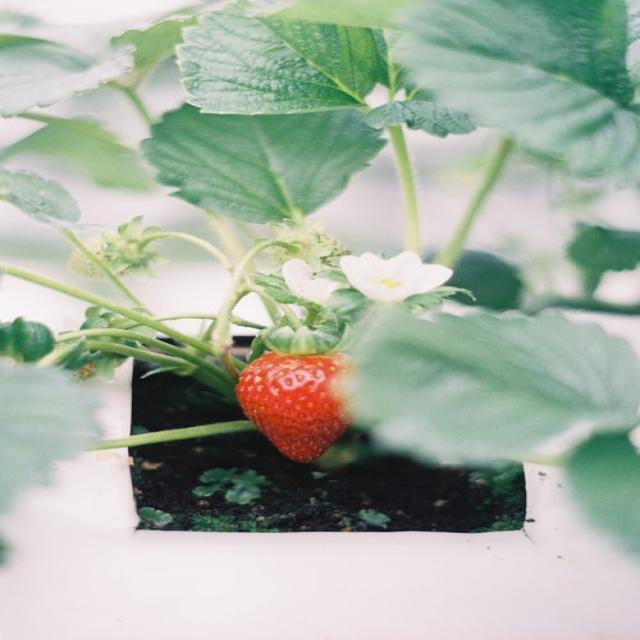mature: (237, 353, 366, 461)
